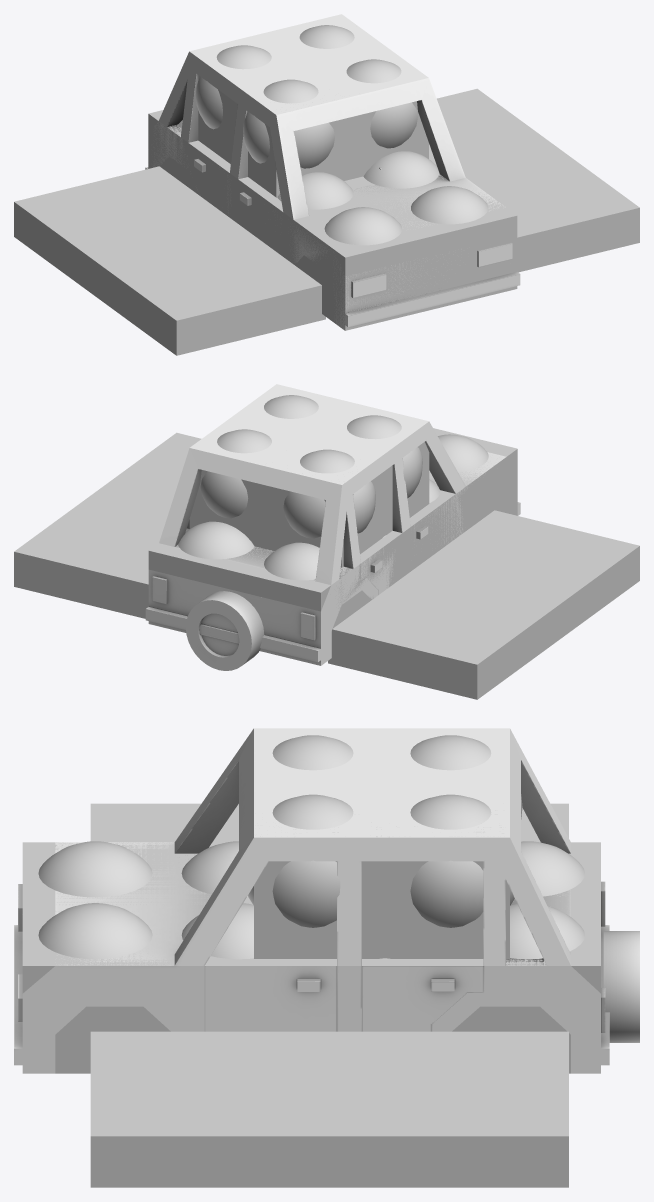
File: boat.glb
3 views of the same model, one above another, from view 1: azimuth 30°, elevation 25°; view 2: azimuth 150°, elevation 25°; view 3: azimuth 270°, elevation 25° (orthographic). The views are drawn at different scales.
Parts seen in each view (by area): view 1: Cube.003, body, Cube.006, Cube.001, Cube.002, Sphere.002, Sphere.001, Sphere, Sphere.003, Sphere.010, Sphere.007, Cube.005 (+3 smaller); view 2: Cube.003, body, Cube.001, Cube.006, Cube.002, wheel_fr, Cube.005, Sphere.007, Sphere.004, Sphere.005, Sphere.002, Sphere.006 (+5 smaller); view 3: body, Cube.001, Cube.006, Cube.002, door_1, door_3, Sphere.004, Sphere.001, Cube.004, Cube.003, Sphere.003, Sphere (+7 smaller).
Part boxes in pixels (<box>): Cube.003: <box>14,166,325,355</box>; body: <box>145,14,520,330</box>; Cube.006: <box>148,110,517,330</box>; Cube.001: <box>429,88,639,272</box>; Cube.002: <box>198,75,428,197</box>; Sphere.002: <box>243,79,334,168</box>; Sphere.001: <box>346,59,417,148</box>; Sphere: <box>411,186,488,254</box>; Sphere.003: <box>324,207,402,275</box>; Sphere.010: <box>363,151,439,188</box>; Sphere.007: <box>195,45,271,129</box>; Cube.005: <box>14,212,321,347</box>; Cube.003: <box>328,510,639,699</box>; body: <box>145,384,520,665</box>; Cube.001: <box>14,432,201,618</box>; Cube.006: <box>148,428,517,657</box>; Cube.002: <box>189,442,429,567</box>; wheel_fr: <box>186,591,264,670</box>; Cube.005: <box>337,560,639,691</box>; Sphere.007: <box>283,449,375,538</box>; Sphere.004: <box>200,429,271,518</box>; Sphere.005: <box>178,521,254,559</box>; Sphere.002: <box>347,415,422,498</box>; Sphere.006: <box>264,542,319,580</box>; body: <box>14,728,609,1073</box>; Cube.001: <box>90,1031,568,1187</box>; Cube.006: <box>22,842,600,1073</box>; Cube.002: <box>254,810,509,958</box>; door_1: <box>204,966,336,1031</box>; door_3: <box>362,966,483,1031</box>; Sphere.004: <box>410,794,514,927</box>; Sphere.001: <box>248,794,353,927</box>; Cube.004: <box>91,1148,568,1175</box>; Cube.003: <box>90,803,568,842</box>; Sphere.003: <box>22,841,152,914</box>; Sphere: <box>38,903,152,959</box>.
Size of the model in its own units: 3.29 by 1.22 by 2.62.
2 materials, 2 textured.
